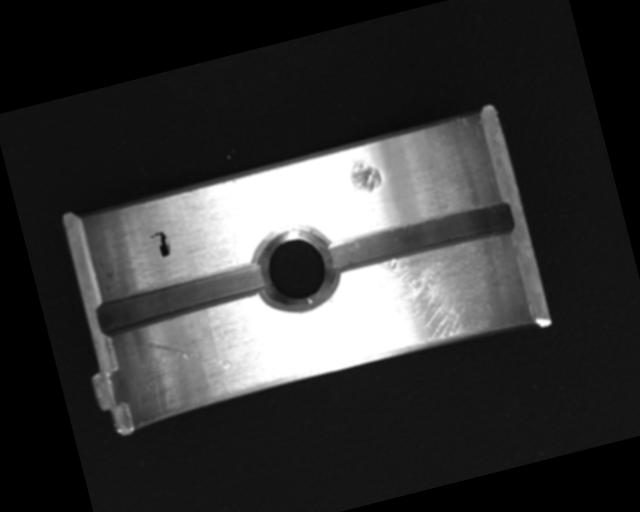blot: (148, 229, 174, 260)
bruise: (345, 151, 385, 196)
gap: (321, 196, 519, 280), (94, 261, 266, 336)
hole: (243, 219, 342, 321)
nick: (138, 321, 233, 389)
scratch: (333, 231, 525, 367)
